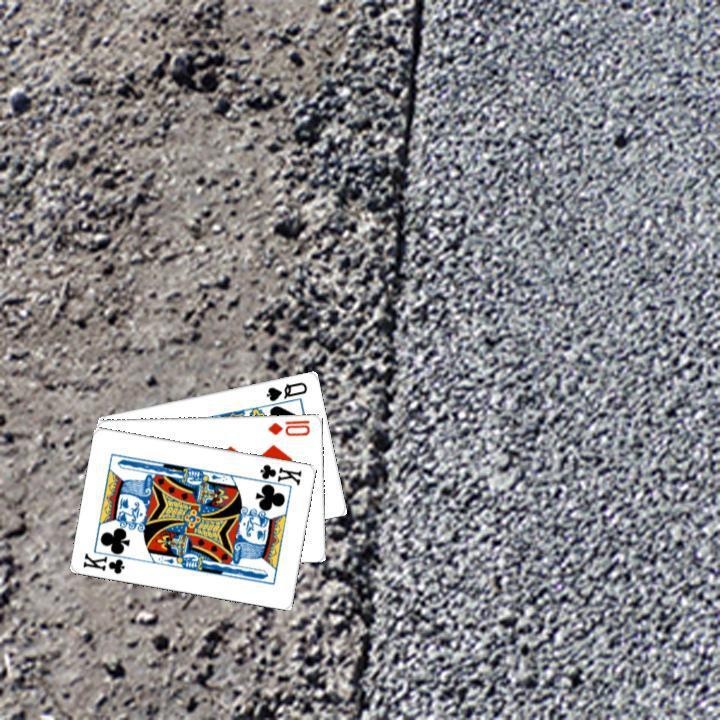10: (264, 415, 312, 437)
K: (79, 545, 134, 576), (250, 460, 304, 490)
Q: (262, 377, 309, 403)
